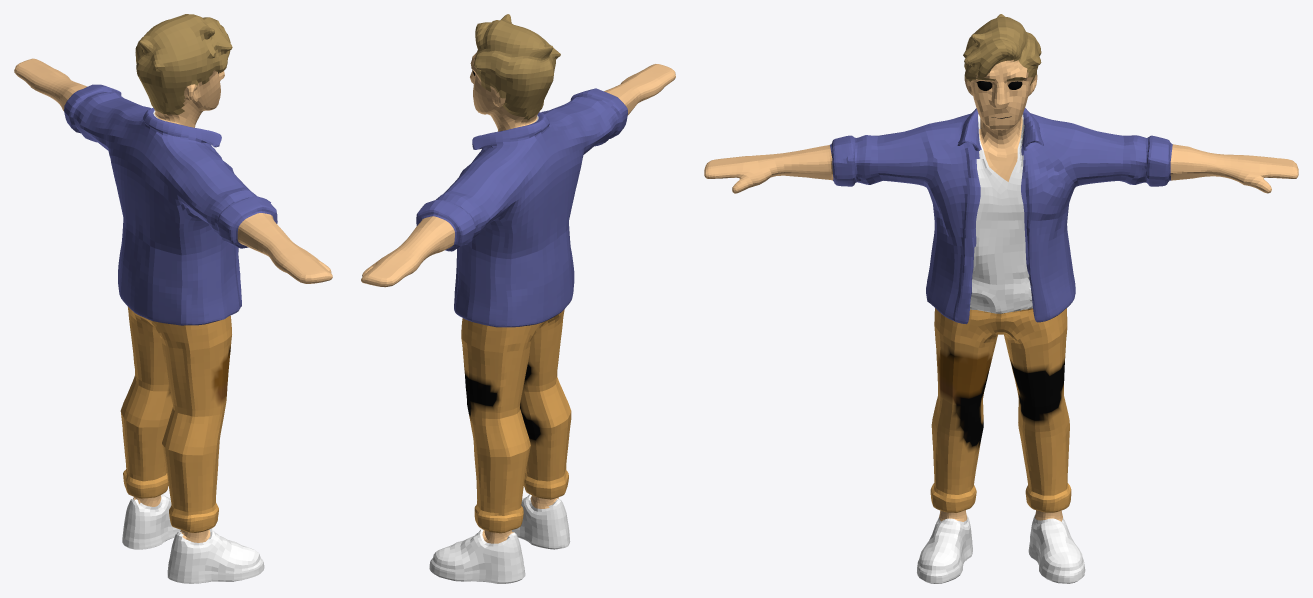
Rendered from man.fbx.
The picture shows the model from 3 angles, left to right: view 1: azimuth 30°, elevation 25°; view 2: azimuth 150°, elevation 25°; view 3: azimuth 270°, elevation 25°; orthographic projection.
Parts seen in each view (by area): view 1: Sphere.003; view 2: Sphere.003; view 3: Sphere.003.
Part boxes in pixels (x1,y1,x2,y2): Sphere.003: [14, 14, 332, 583]; Sphere.003: [361, 14, 675, 583]; Sphere.003: [704, 14, 1298, 583].
Size of the model in its own units: 18.98 by 99.79 by 99.76.
